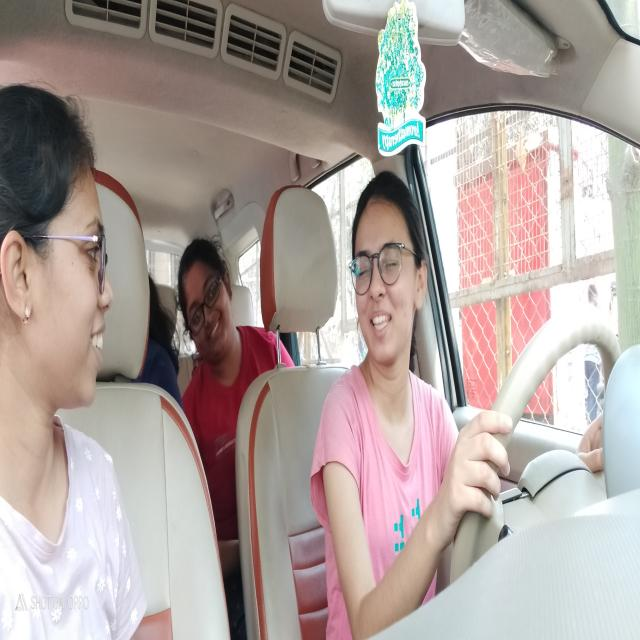LeftRight: (348, 168, 430, 376)
person: (2, 84, 115, 428), (175, 230, 234, 366)
talking: (89, 320, 108, 364), (369, 306, 393, 338)
